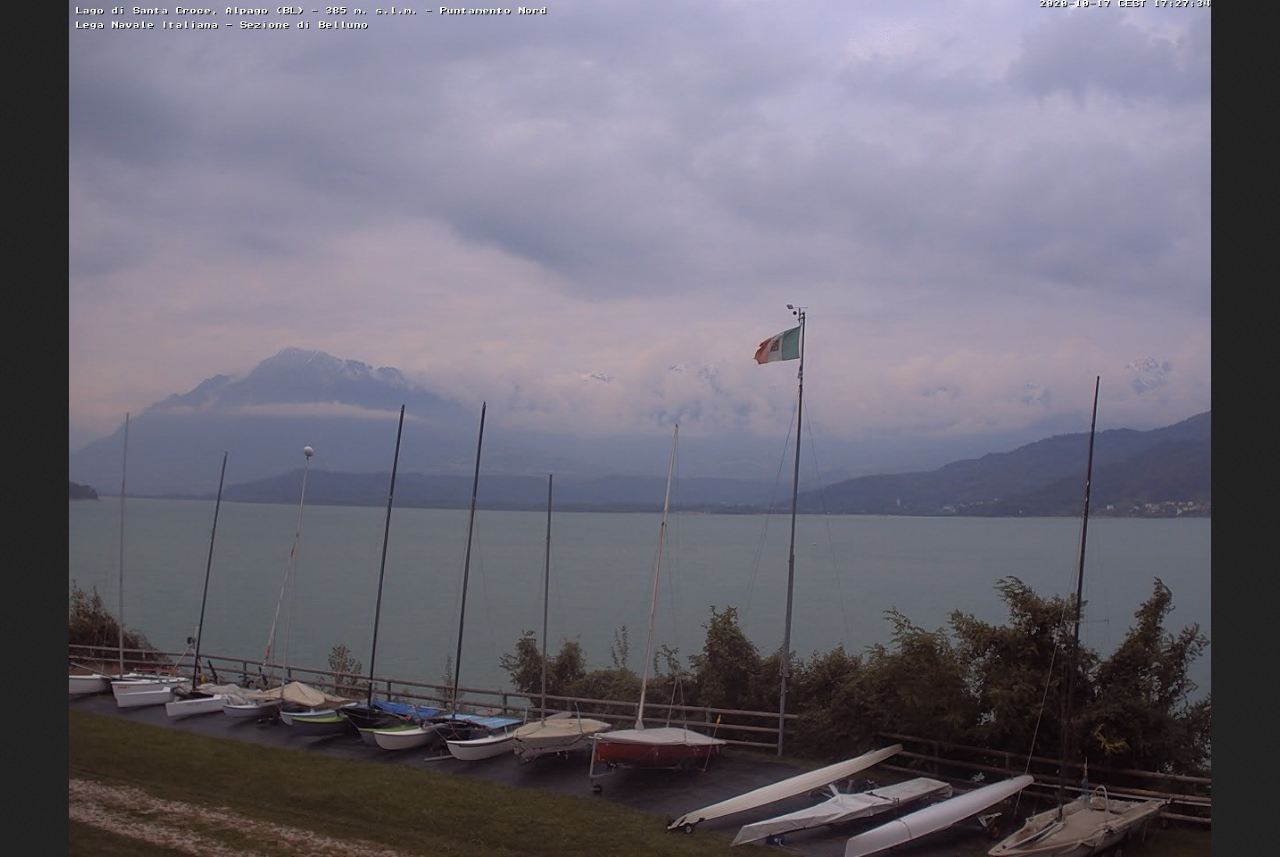yes: (747, 322, 809, 368)
